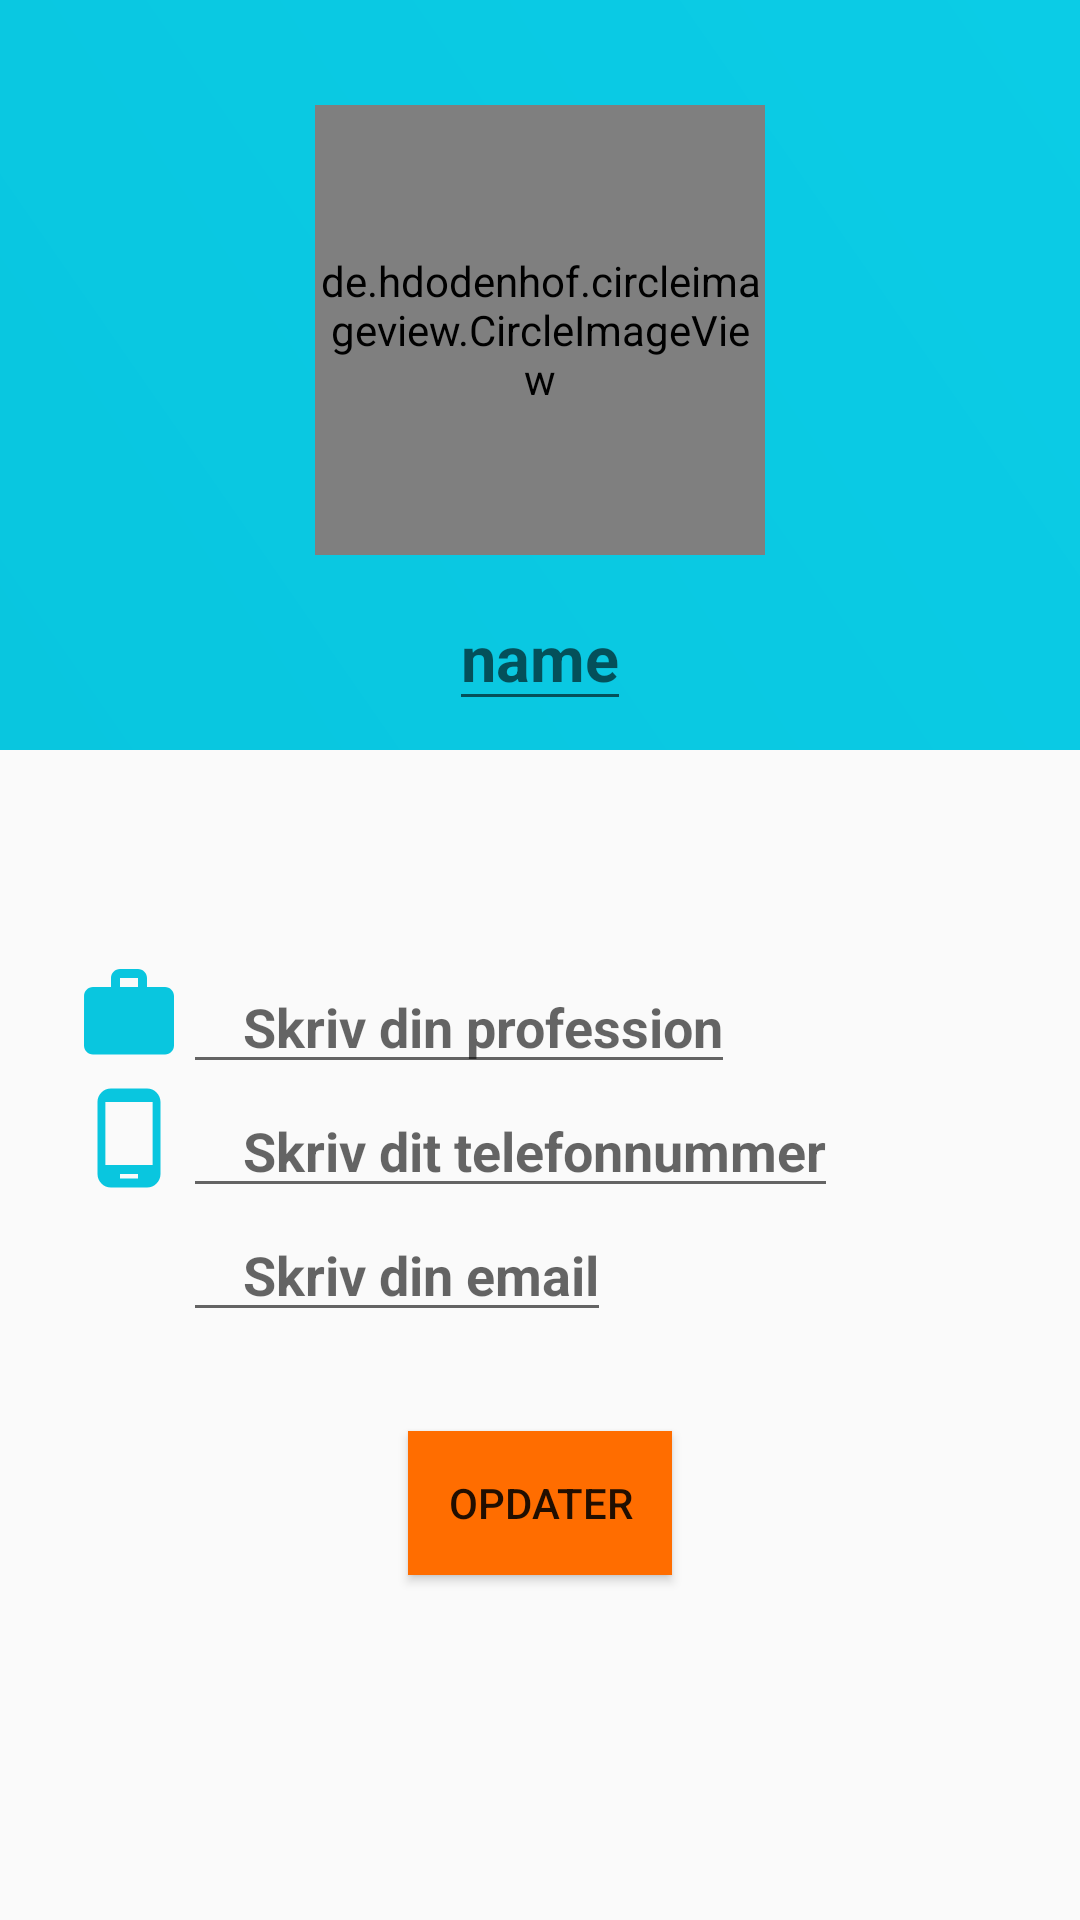

Screen size 1080x1920. Icon name, then its box in pixels as [x1, y1, x2, y2]:
phone android: [97, 1088, 161, 1188]
work: [84, 969, 174, 1055]
